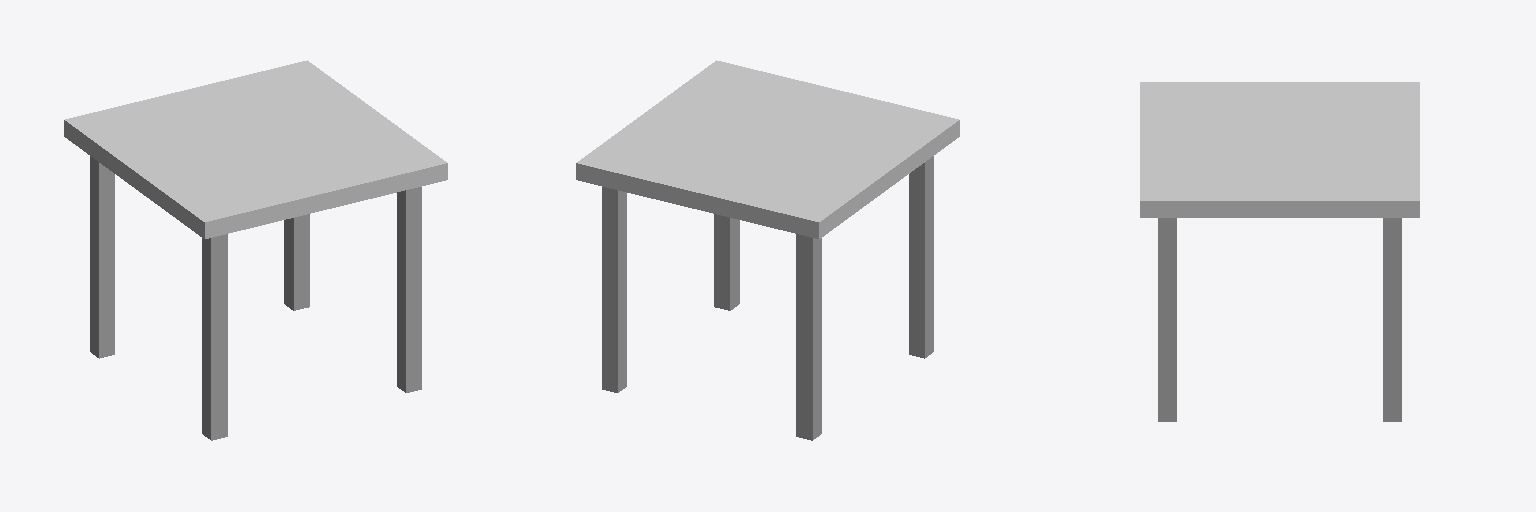
The picture shows the model from 3 angles: view 1: azimuth 30°, elevation 25°; view 2: azimuth 150°, elevation 25°; view 3: azimuth 270°, elevation 25°; orthographic projection.
Visible parts, largest first — view 1: chair3; view 2: chair3; view 3: chair3.
Boxes of the visible parts, x1,y1,x2,y2 form: chair3: [64, 60, 447, 440]; chair3: [576, 60, 959, 440]; chair3: [1140, 82, 1419, 421].
Bounding box in the file's own units: 3 × 2.7 × 3.
1 materials, 1 textured.